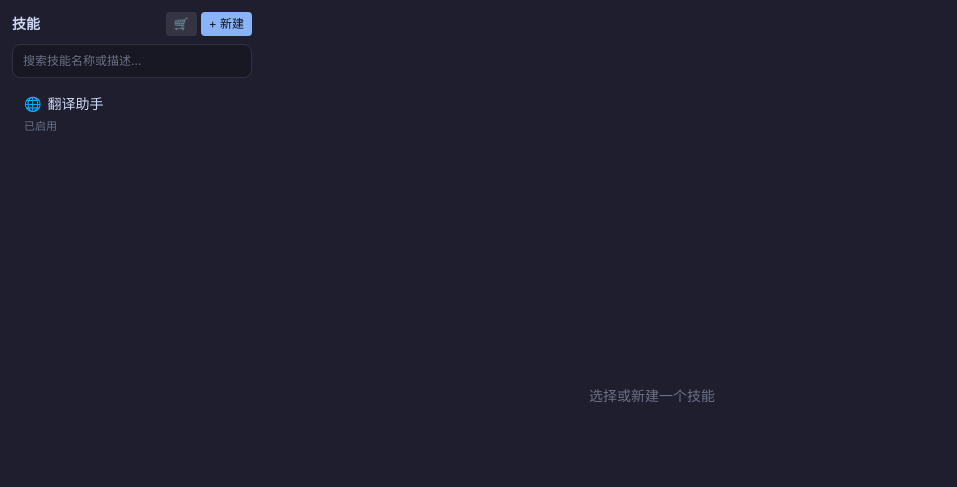
Test case: 自带文件那三张脸 › 有清单 ⇒ 逐条列出路径，并说一句"模型要靠 load_skill 取它们"
Click the text "翻译助手".
click(76, 104)  # box [48,94,104,114]
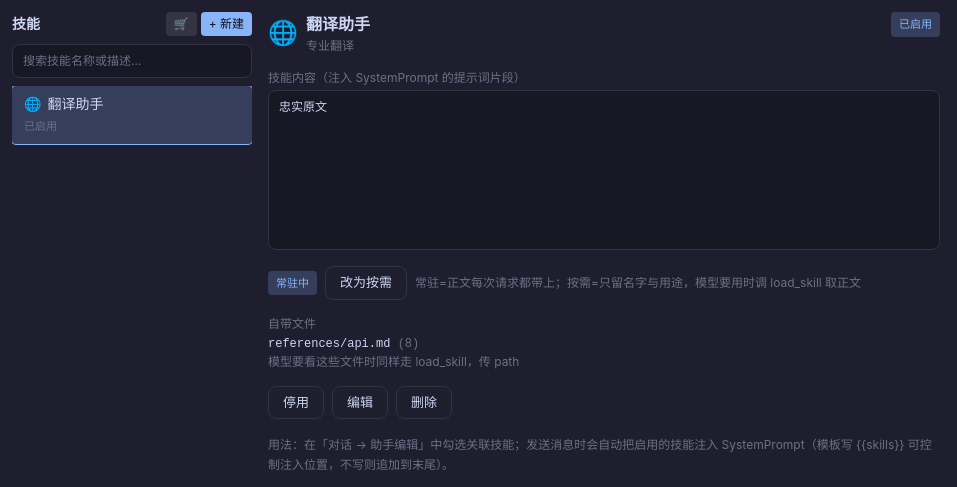
Check: the list with test id "skill-files-list" shows "references/api.md", box [268,336,390,350]
Check: the list with test id "skill-files-list" shows "模型要看这些文件时同样走 load_skill，传 path", box [268,354,519,368]
